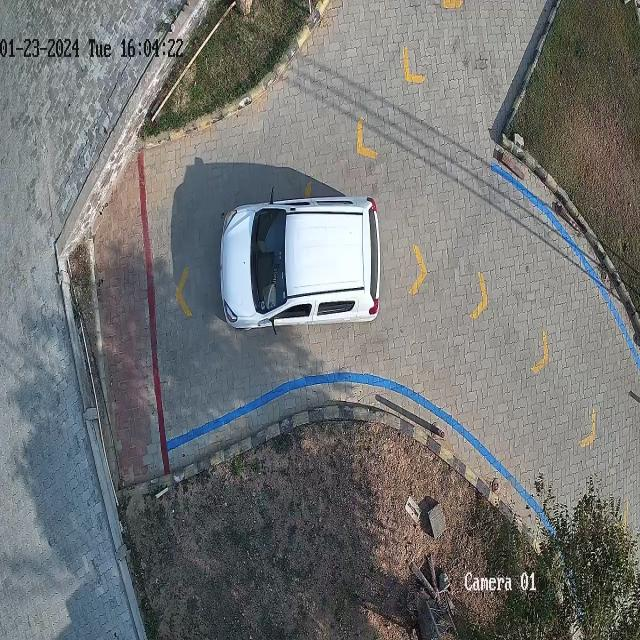car: (220, 196, 380, 329)
